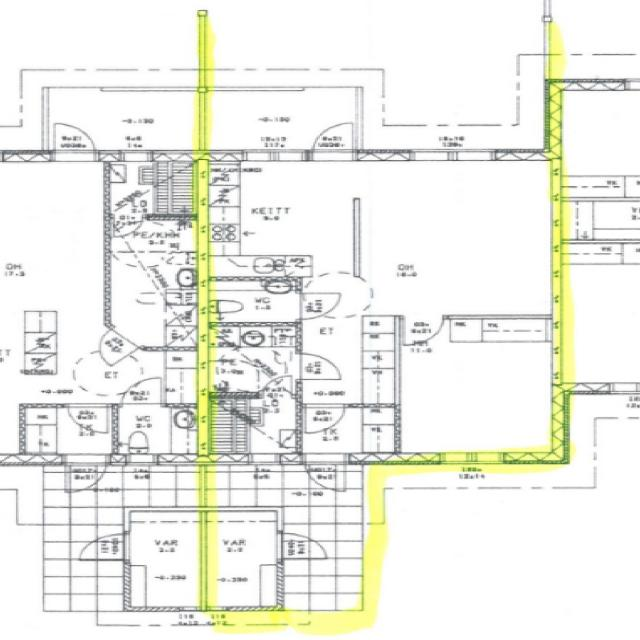door: (305, 453, 346, 491), (312, 124, 352, 161), (277, 532, 325, 560), (294, 293, 343, 320), (295, 353, 340, 379), (404, 315, 444, 344), (306, 404, 343, 432), (263, 375, 291, 398)
